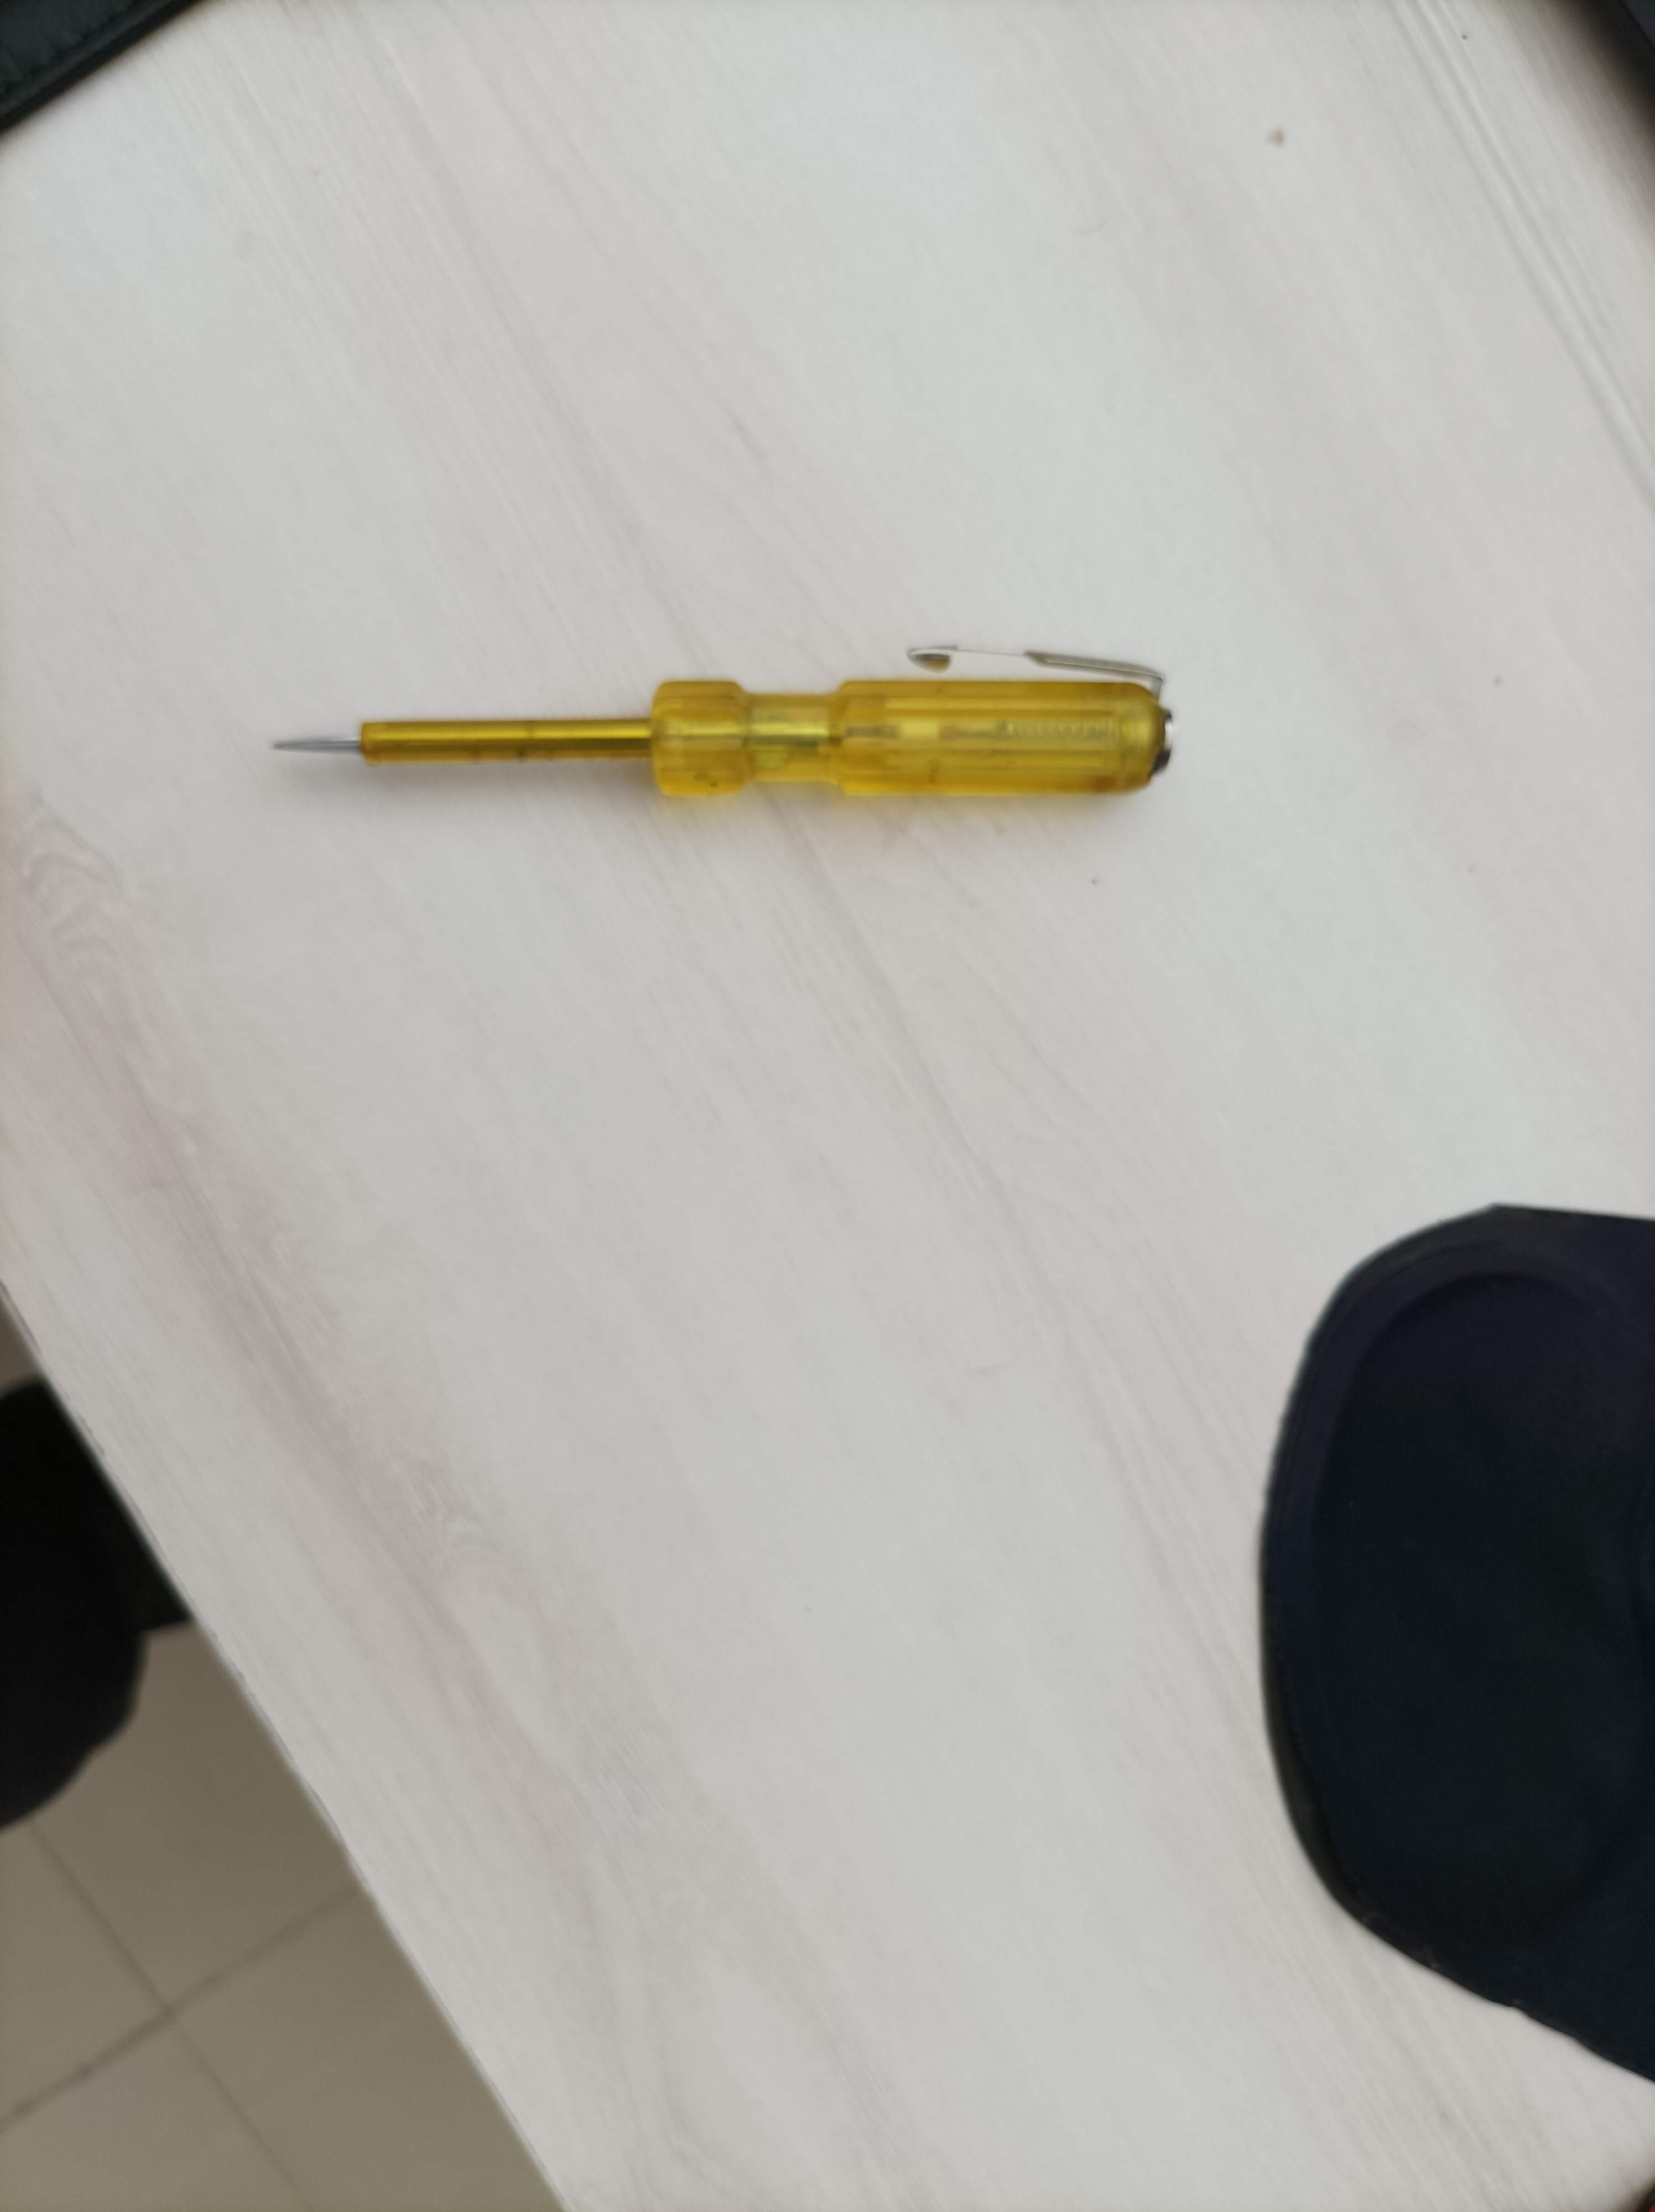screwdriver: (249, 622, 1177, 831)
